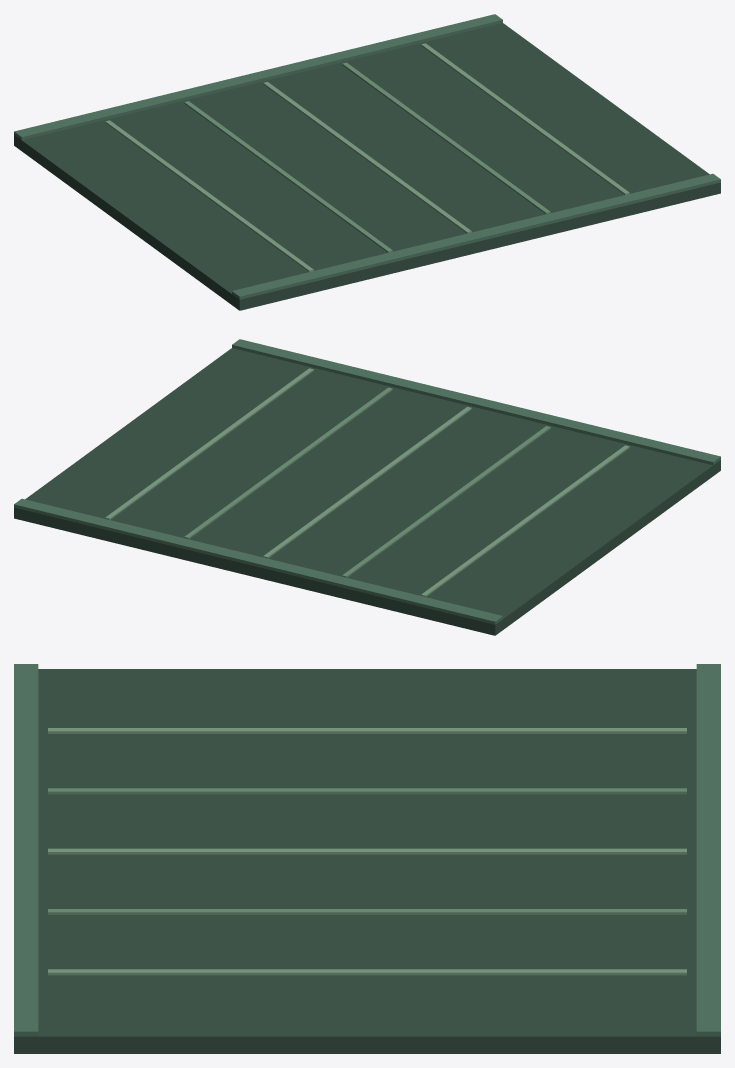
Rendered from gim.glb.
The picture shows the model from 3 angles, top to bottom: view 1: azimuth 30°, elevation 25°; view 2: azimuth 150°, elevation 25°; view 3: azimuth 270°, elevation 25°; orthographic projection. The views are drawn at different scales.
Parts seen in each view (by area): view 1: gim_sheet, top_edge, bottom_edge, fiber_1, fiber_-2, fiber_0, fiber_2, fiber_-1; view 2: gim_sheet, bottom_edge, top_edge, fiber_1, fiber_-2, fiber_0, fiber_2, fiber_-1; view 3: gim_sheet, top_edge, bottom_edge, fiber_-1, fiber_0, fiber_2, fiber_-2, fiber_1.
Boxes of the visible parts, x1,y1,x2,y2 form: gim_sheet: (14, 23, 720, 310); top_edge: (232, 173, 720, 299); bottom_edge: (14, 14, 502, 140); fiber_1: (342, 62, 550, 214); fiber_-2: (105, 120, 313, 271); fiber_0: (263, 82, 471, 233); fiber_2: (421, 43, 629, 194); fiber_-1: (184, 101, 392, 252); gim_sheet: (14, 348, 720, 635); bottom_edge: (14, 498, 502, 624); top_edge: (232, 339, 720, 465); fiber_1: (184, 387, 392, 539); fiber_-2: (421, 445, 629, 596); fiber_0: (263, 407, 471, 558); fiber_2: (105, 368, 313, 519); fiber_-1: (342, 426, 550, 577); gim_sheet: (14, 669, 720, 1053); top_edge: (14, 664, 38, 1036); bottom_edge: (696, 664, 720, 1036); fiber_-1: (48, 788, 686, 794); fiber_0: (48, 848, 686, 854); fiber_2: (48, 969, 686, 975); fiber_-2: (48, 728, 686, 733); fiber_1: (48, 909, 686, 914).
Size of the model in its own units: 0.64 by 0.018 by 0.52.
